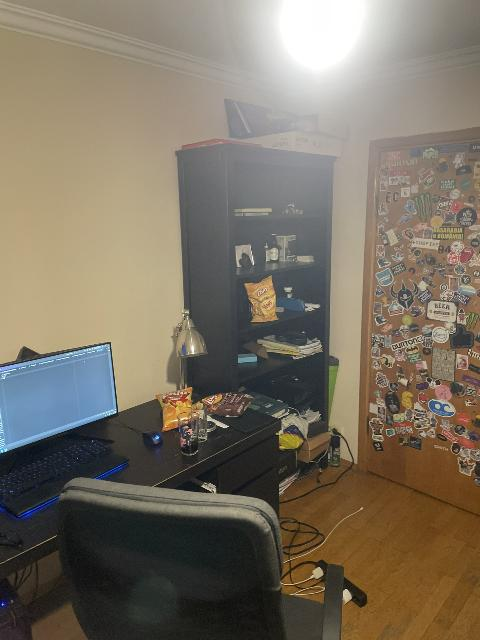Chio Cascaval 125g: (155, 386, 193, 431)
Chio Hula Hoops Cheese 70g: (244, 275, 279, 321)
Lays Beef Grilled Ribs 125g: (206, 392, 254, 417)
